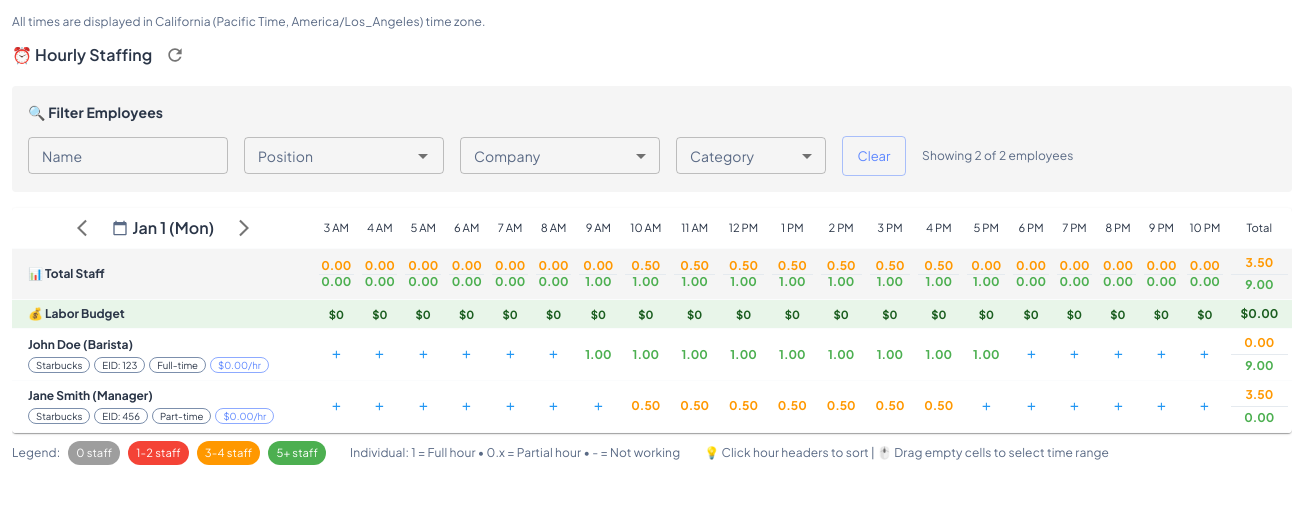
Scenario: HourlyStaffingTable › Sorting › clears sorting when clear filters button is clicked
The image size is (1292, 529).
Click the text "9 AM" at (598, 227), box x1=586 y1=220 x2=611 y2=234
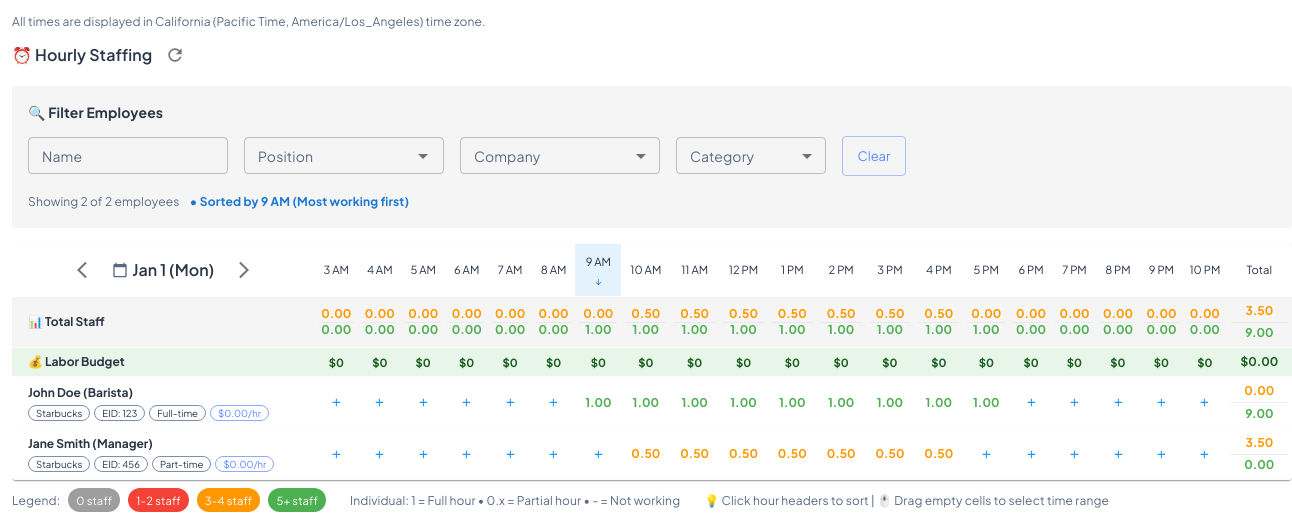
Result: the text "• Sorted by 9 AM (Most working first)" is shown at x1=190 y1=194 x2=409 y2=209
Click the button "Clear" at (874, 156), box x1=842 y1=136 x2=906 y2=176
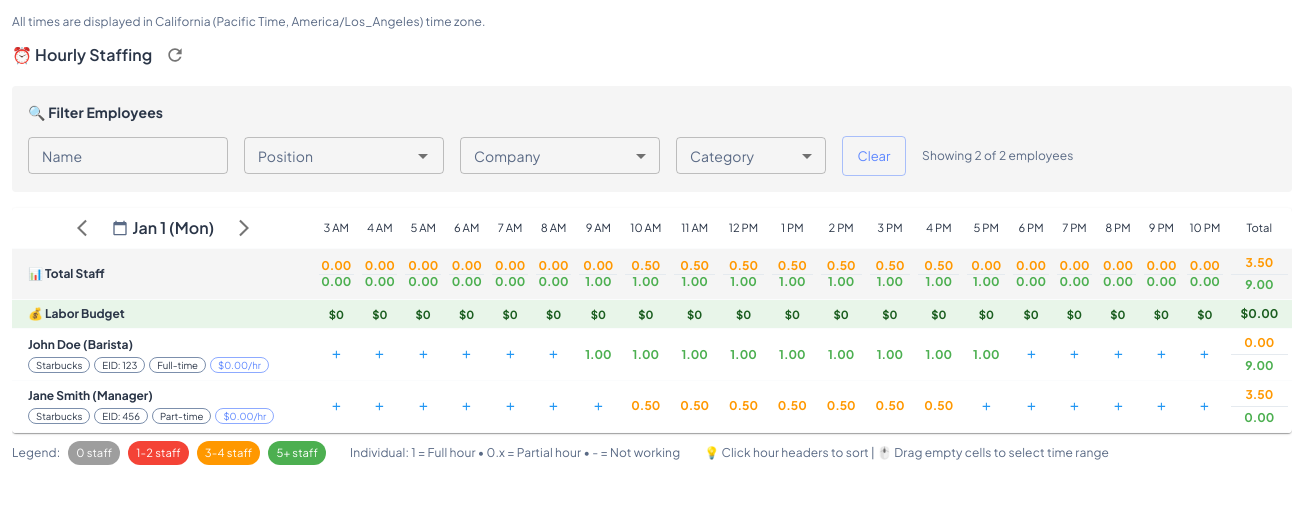
Result: the text "Sorted by" is gone
